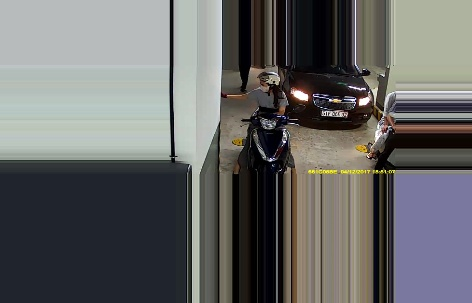plate: (321, 106, 352, 118)
